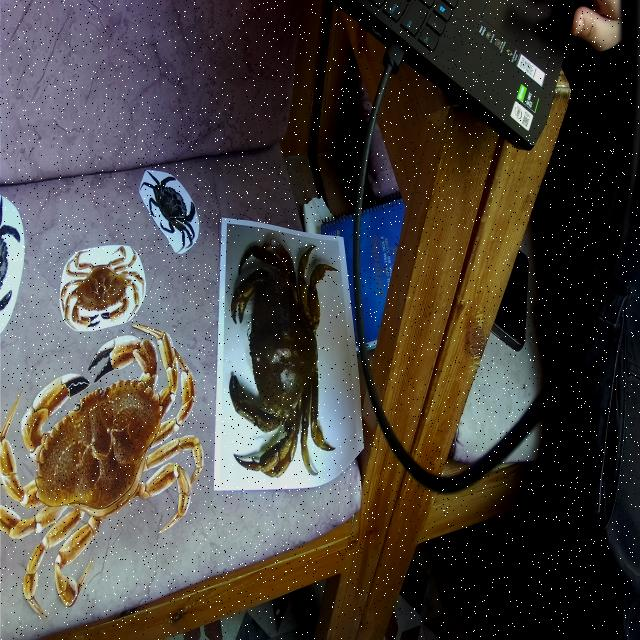European_Green_Crab: (136, 147, 204, 264), (0, 194, 28, 345)
